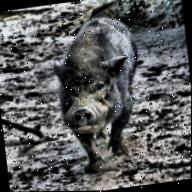boar: (46, 10, 151, 176)
